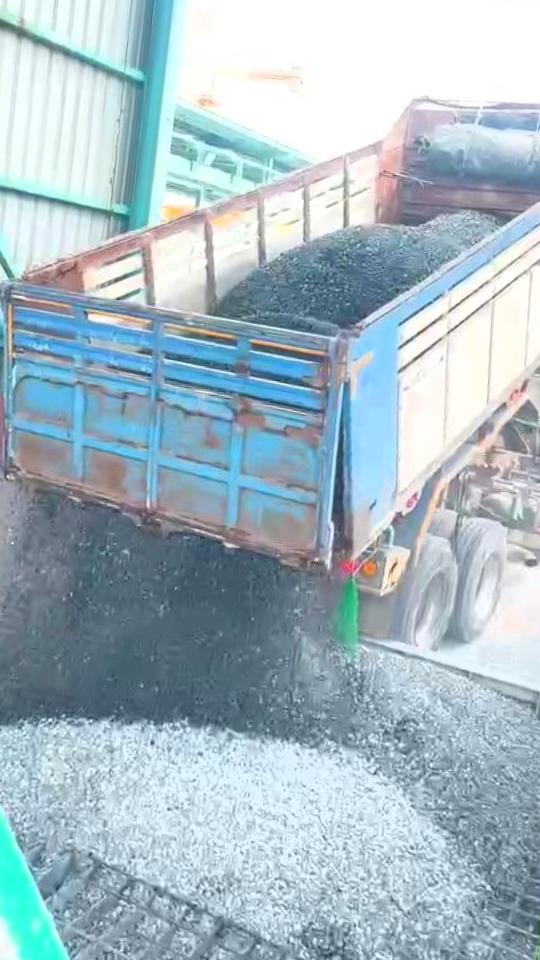gravel: (0, 498, 540, 880), (0, 721, 478, 960), (216, 211, 497, 332)
